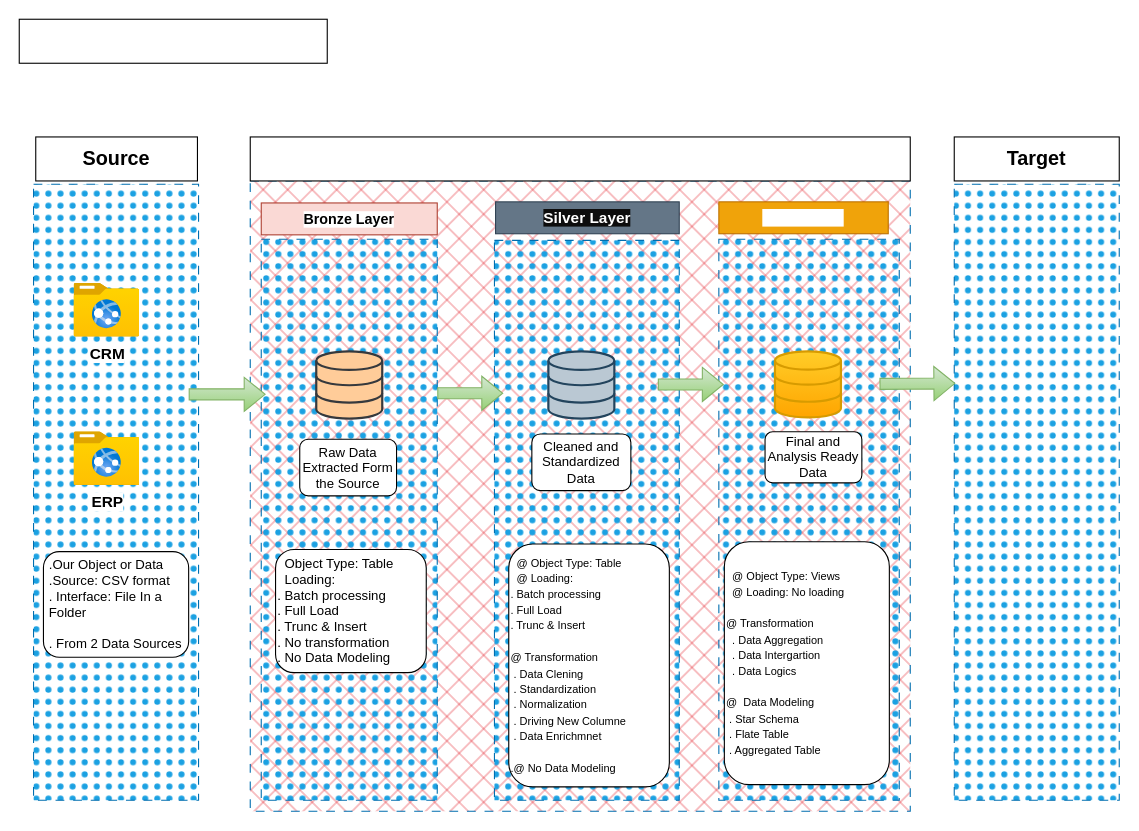
Some shapes in this 1139 by 831 pixel diagram are drawn without their labels. Each missing label, with the centre of its shape:
"Data Warehouse" belongs at (579,158).
"Level of Architecture" belongs at (172,40).
